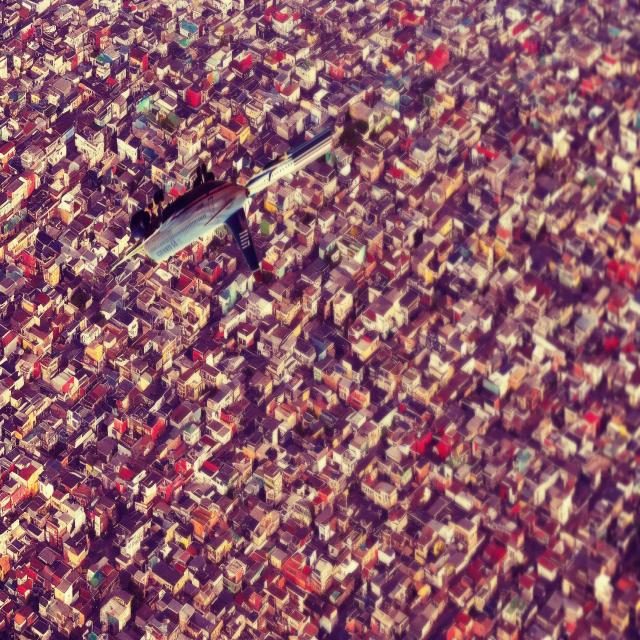airplane: (124, 121, 337, 286)
